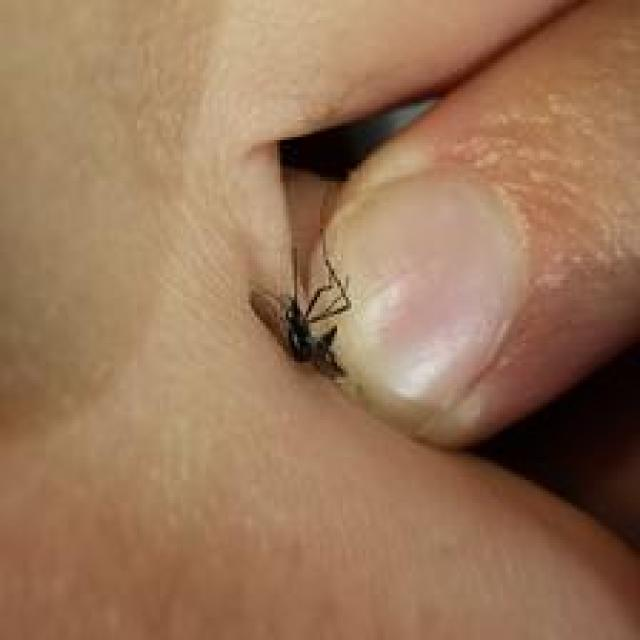Aedes albopictus: (249, 230, 354, 384)
